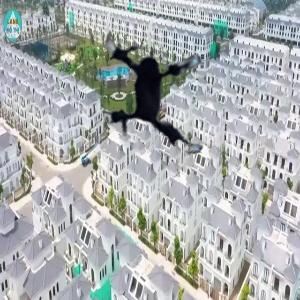drone: (78, 4, 247, 173)
